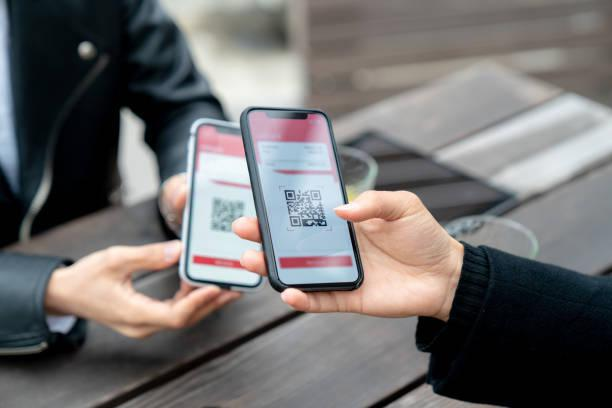Finder pattern: (287, 213, 304, 229), (281, 186, 297, 202), (309, 187, 322, 201)
